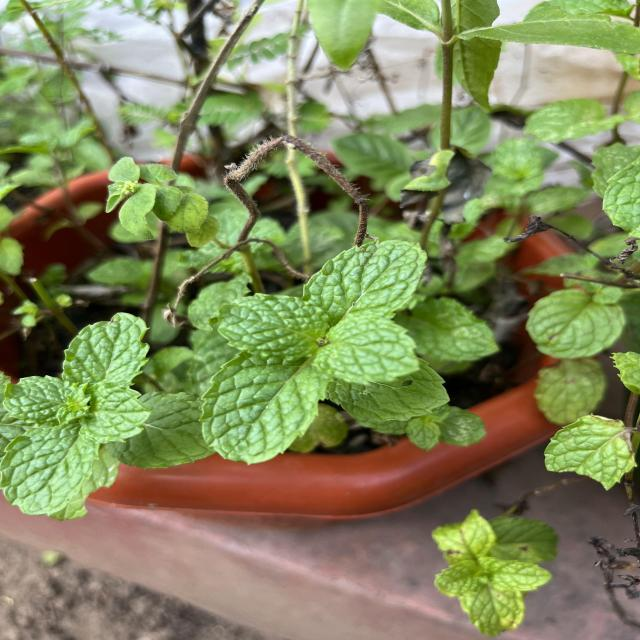Mentha spicata: (198, 348, 329, 467), (302, 238, 428, 319), (1, 424, 103, 518), (212, 291, 330, 361), (314, 316, 422, 387), (61, 312, 152, 389)
